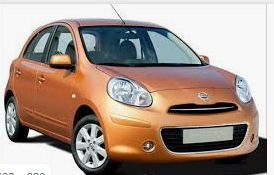car: (4, 18, 260, 172)
